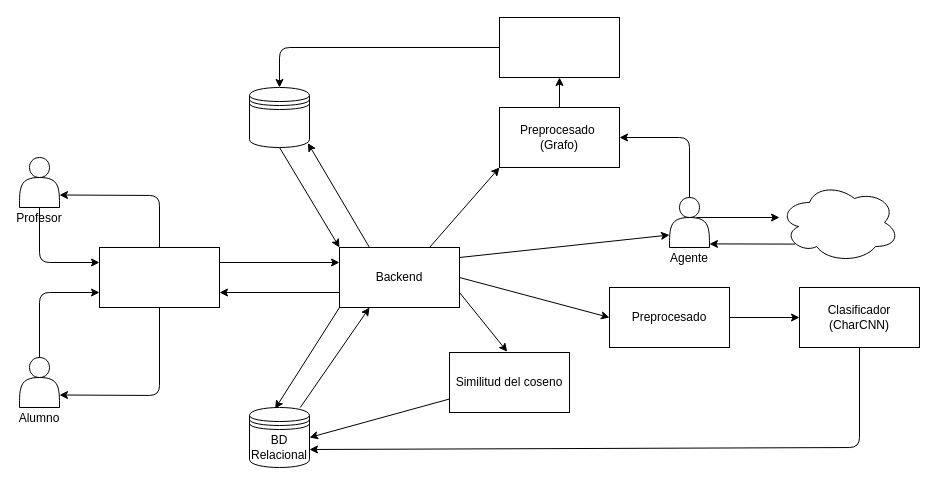
The diagram is 937 pixels wide and 485 high, and some of its shapes have lost their labels. Here are the shapes that lost their labels. From the top down, the centre of each, then its label:
At (559,47): "GraphCodeBERT (Embeddings)".
At (279,117): "BD Vectorial".
At (839,222): "LLMs API".
At (159,277): "Frontend".
